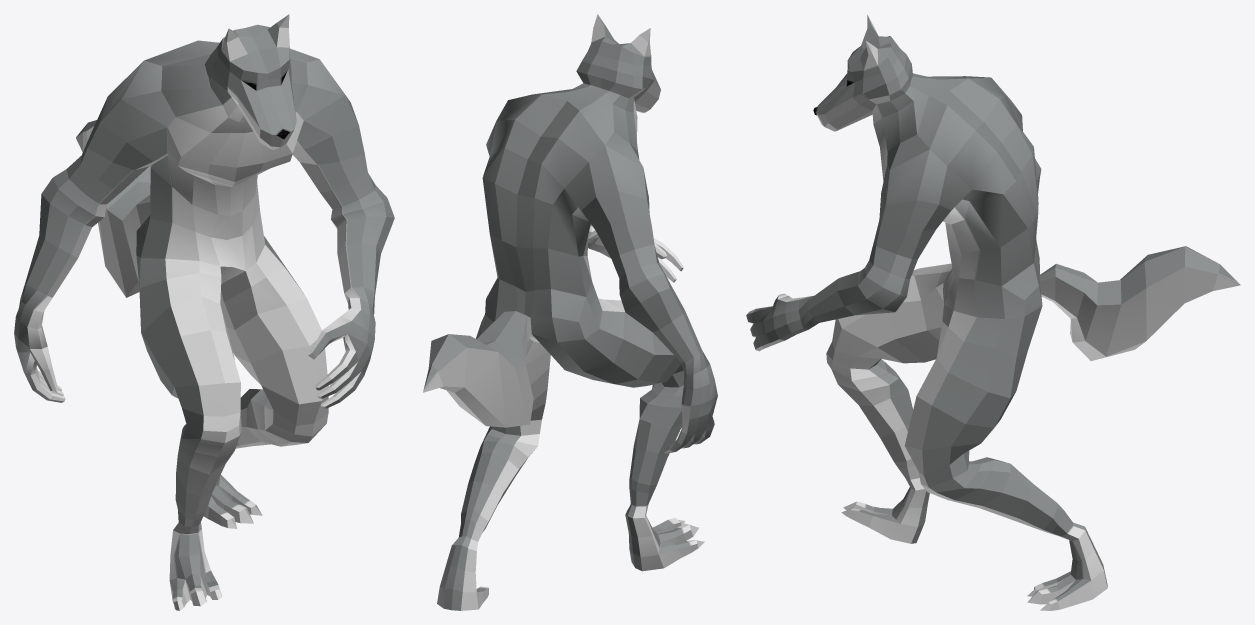
Rendered from WolfWalk(24).obj.
3 views of the same model, side by side, from view 1: azimuth 30°, elevation 25°; view 2: azimuth 150°, elevation 25°; view 3: azimuth 270°, elevation 25° (orthographic). The views are drawn at different scales.
Parts seen in each view (by area): view 1: Box001; view 2: Box001; view 3: Box001.
Boxes of the visible parts, x1=… form: Box001: x1=14, y1=14, x2=394, y2=610; Box001: x1=423, y1=14, x2=717, y2=610; Box001: x1=746, y1=15, x2=1240, y2=610.
Size of the model in its own units: 75.51 by 139 by 115.
